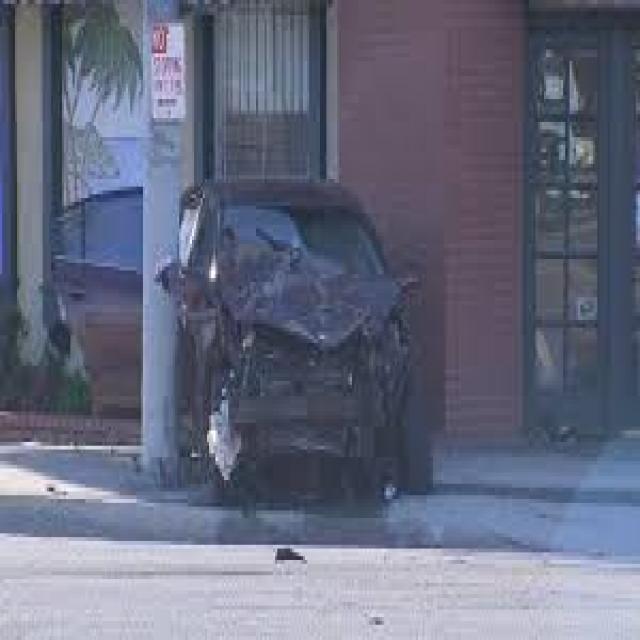accident: (154, 133, 438, 523)
